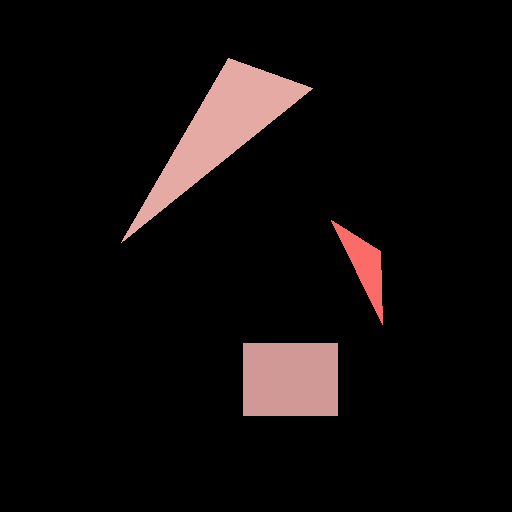rectangle: (243, 343, 337, 415)
triangle: (121, 58, 312, 242), (331, 220, 382, 324)
